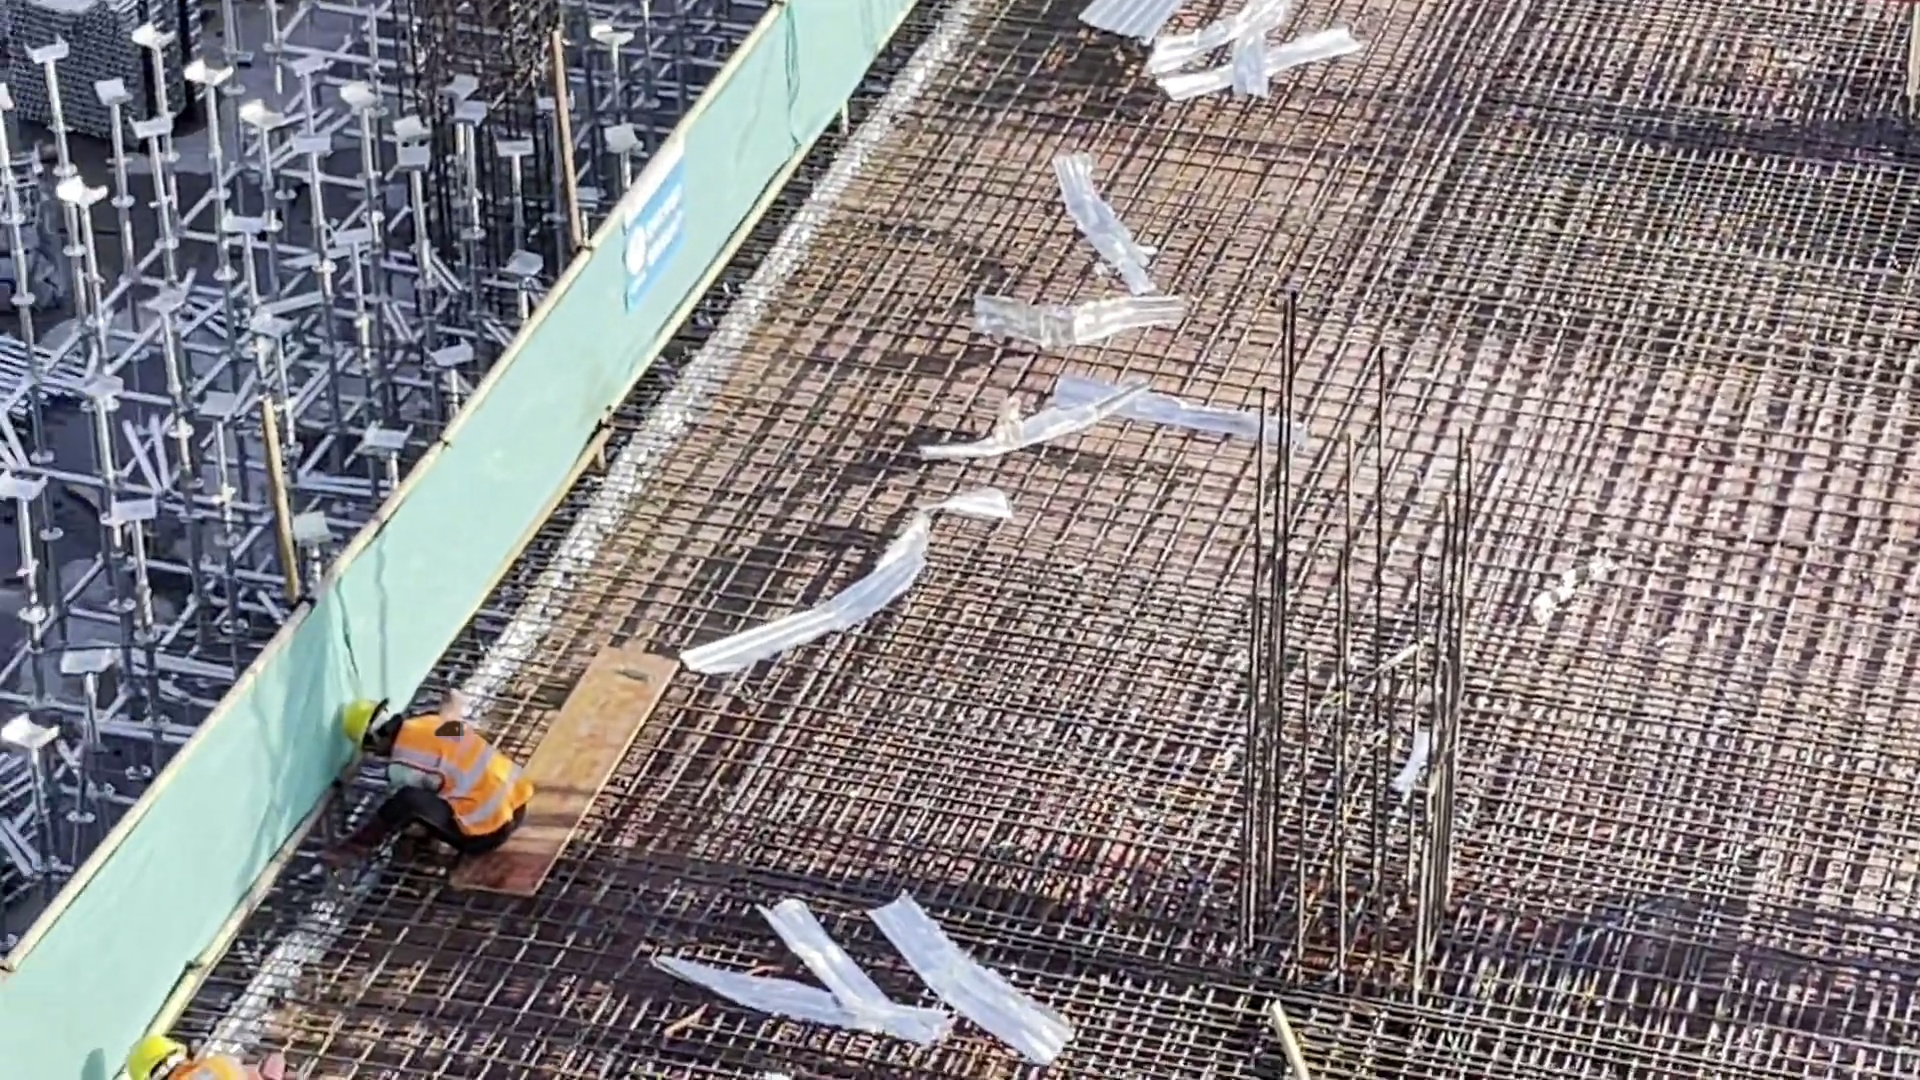helmet: (119, 1036, 183, 1080), (341, 700, 376, 749)
person: (336, 696, 528, 860), (112, 1011, 247, 1080)
vest: (407, 724, 527, 841), (177, 1051, 239, 1080)
